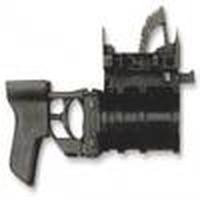gun: (5, 36, 193, 178)
